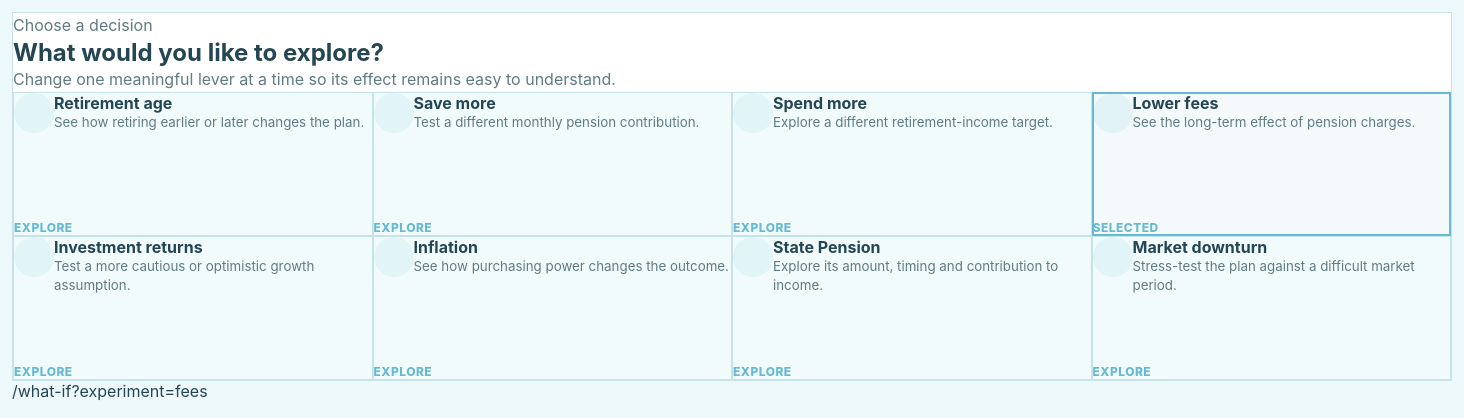
Test: query-owned workspace navigation › opens and records the requested What If experiment
What coordinates should you click on to do the following:
click the button "Inflation"
I would click on:
 (394, 257)
Its box is left=372, top=236, right=732, bottom=380.
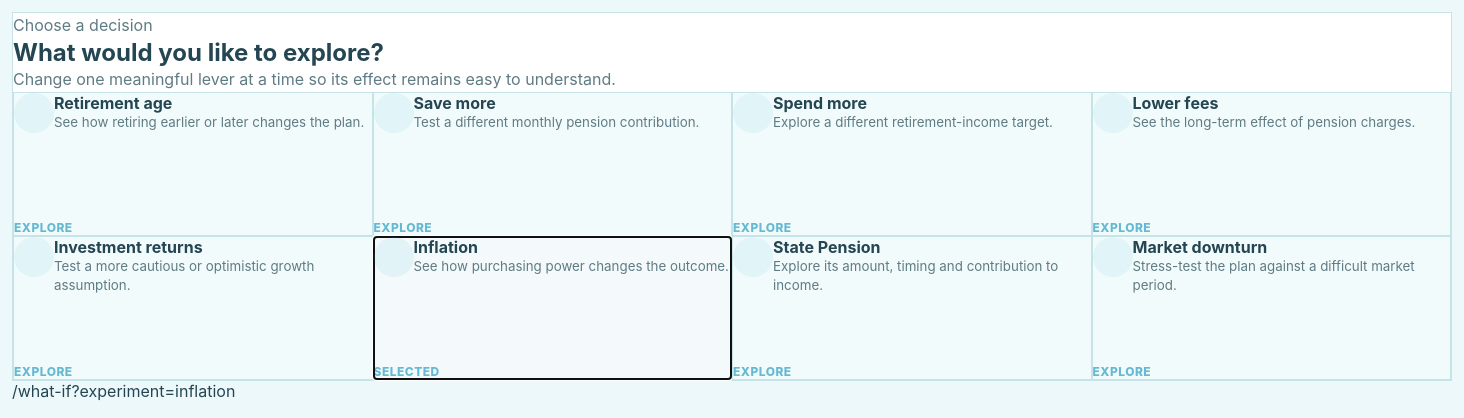
Result: the text with test id "location" reads "/what-if?experiment=inflation" at left=12, top=381, right=235, bottom=401
